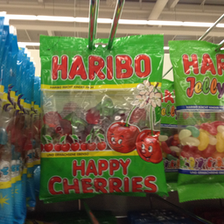candy: (41, 32, 166, 203), (168, 38, 224, 201)
